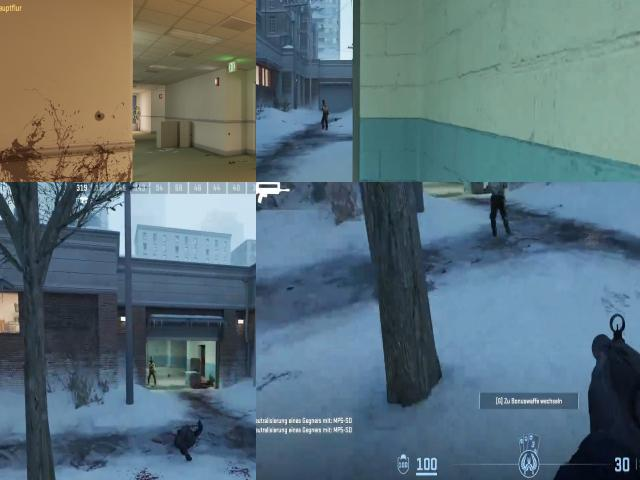Dead: (168, 413, 206, 465)
T: (147, 359, 158, 389), (487, 182, 505, 199), (320, 99, 330, 120)
T-Head: (321, 100, 328, 108), (149, 358, 155, 367)
